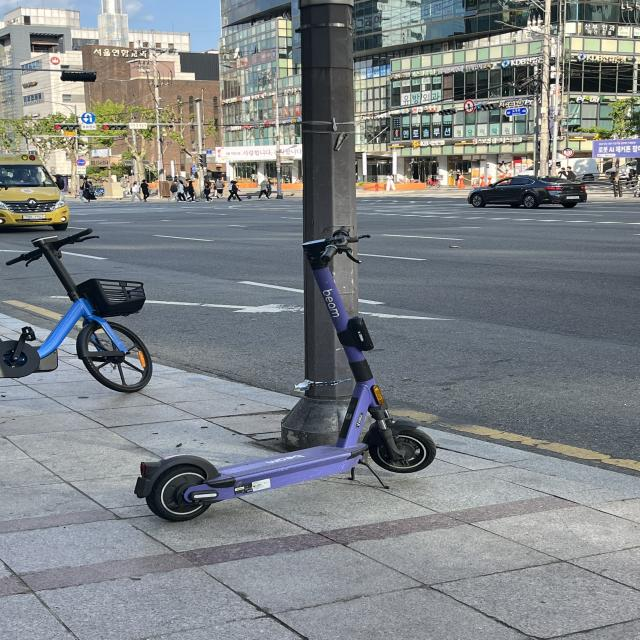kick-board: (137, 228, 435, 520)
lane: (393, 409, 638, 475)
road: (357, 192, 640, 461), (65, 198, 303, 394)
sidewalk: (0, 339, 638, 640)
